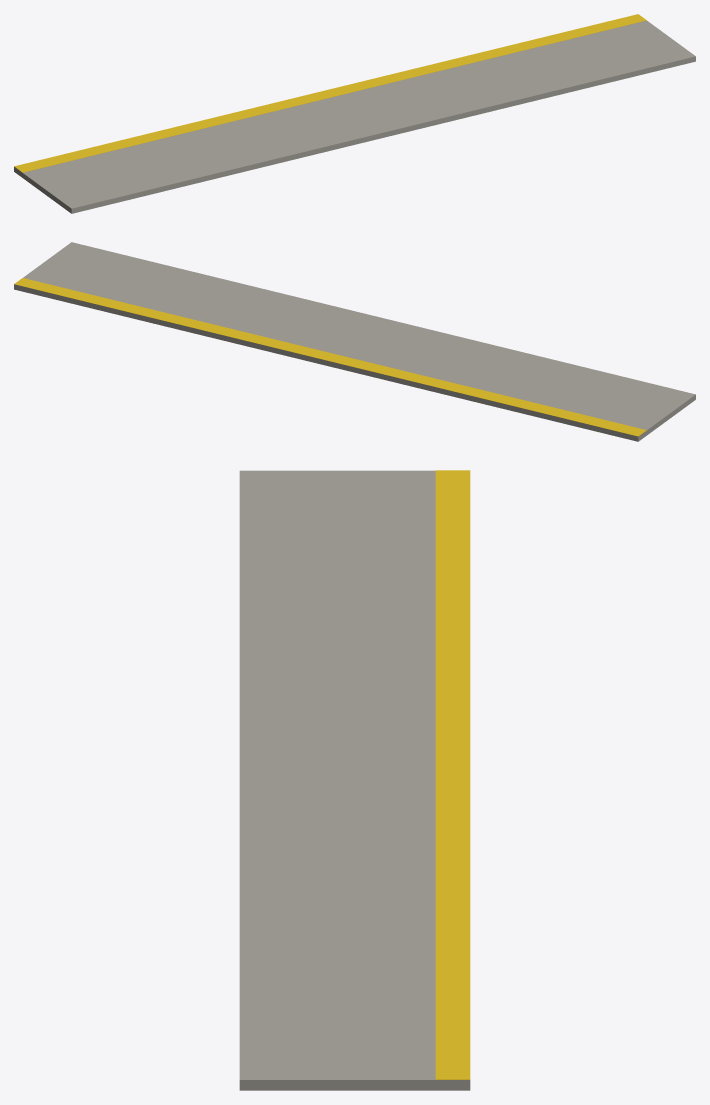
File: tf_depot_platform_25m.glb
3 renders of one model, top to bottom at view 1: azimuth 30°, elevation 25°; view 2: azimuth 150°, elevation 25°; view 3: azimuth 270°, elevation 25°, orthographic. The views are drawn at different scales.
Visible parts, largest first — view 1: tf_depot_platform_25m; view 2: tf_depot_platform_25m; view 3: tf_depot_platform_25m.
Part boxes in pixels (x1,y1,x2,y2): tf_depot_platform_25m: (14, 14, 695, 213); tf_depot_platform_25m: (14, 242, 695, 441); tf_depot_platform_25m: (239, 470, 470, 1090).
Size of what is drawn, in the model's own units: 25 by 0.205 by 4.
